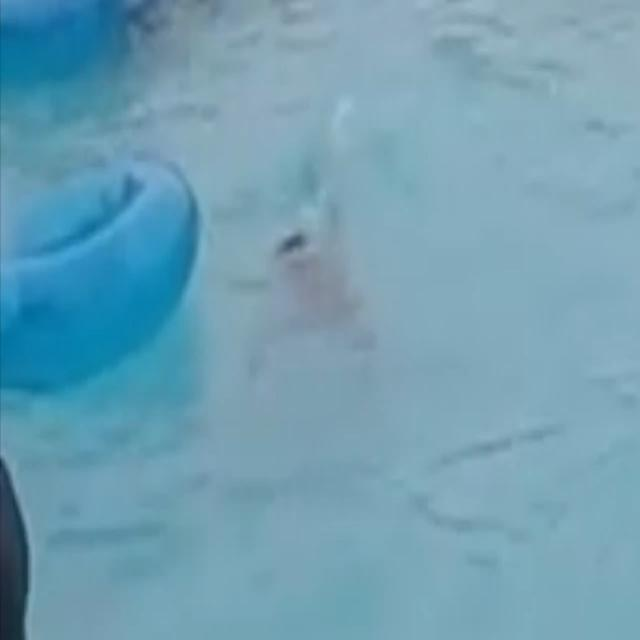Out of Water: (229, 201, 369, 343)
